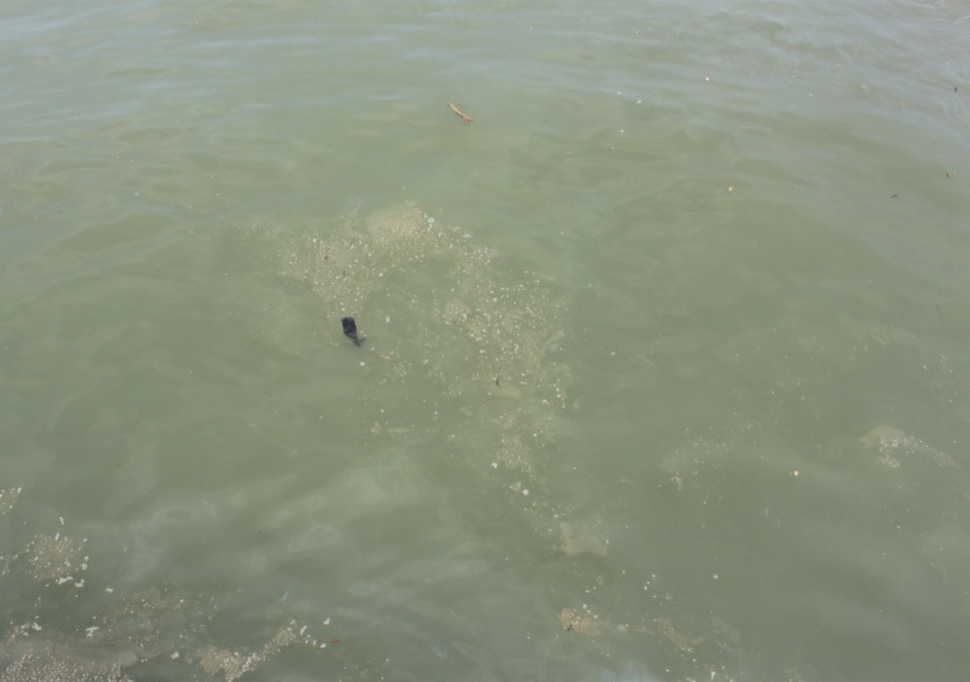organic: (440, 95, 484, 133)
plastic: (329, 305, 382, 359)
